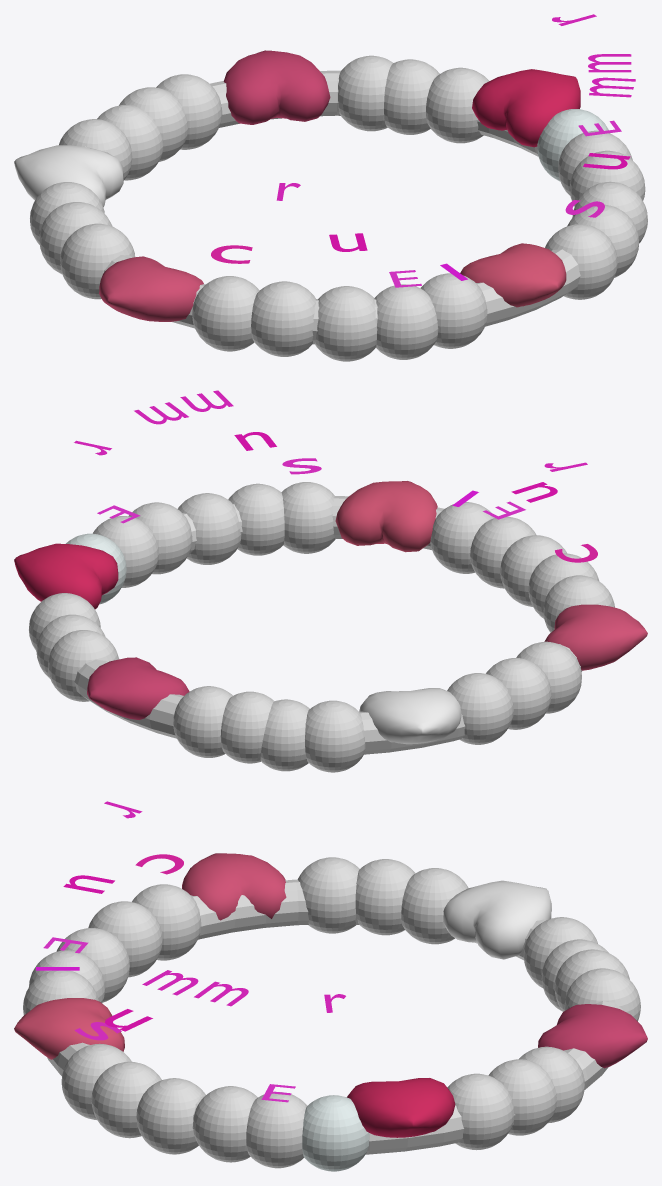
Rendered from CruelSummer.fbx.
3 renders of one model, top to bottom at view 1: azimuth 30°, elevation 25°; view 2: azimuth 150°, elevation 25°; view 3: azimuth 270°, elevation 25°, orthographic. The views are drawn at different scales.
Visible parts, largest first — view 1: Vert.004, Vert, Vert.002, Vert.001, Vert.003, Torus.001, Sphere.037, Sphere.038, Sphere.036, Sphere.039, Sphere.031, Sphere.032 (+15 smaller); view 2: Vert.001, Vert, Vert.003, Vert.002, Vert.004, Torus.001, Sphere.033, Sphere.041, Sphere.030, Sphere.022, Sphere.029, Sphere.018 (+15 smaller); view 3: Torus.001, Vert.003, Vert, Vert.002, Vert.004, Sphere.023, Vert.001, Sphere.022, Sphere.021, Sphere.016, Sphere.032, Sphere.034 (+15 smaller).
Part boxes in pixels (<box>): Vert.004: <box>223,50,330,124</box>; Vert: <box>472,69,580,147</box>; Vert.002: <box>99,256,203,321</box>; Vert.001: <box>460,243,566,307</box>; Vert.003: <box>14,145,123,207</box>; Torus.001: <box>83,70,580,344</box>; Sphere.037: <box>251,281,316,356</box>; Sphere.038: <box>315,286,376,361</box>; Sphere.036: <box>192,276,259,351</box>; Sphere.039: <box>374,284,438,359</box>; Sphere.031: <box>420,273,487,348</box>; Sphere.032: <box>60,223,135,299</box>; Vert.001: <box>335,481,437,552</box>; Vert: <box>14,543,118,609</box>; Vert.003: <box>359,688,461,744</box>; Vert.002: <box>544,604,647,670</box>; Vert.004: <box>87,657,189,719</box>; Torus.001: <box>74,496,582,754</box>; Sphere.033: <box>305,700,365,772</box>; Sphere.041: <box>447,673,513,744</box>; Sphere.030: <box>281,482,335,553</box>; Sphere.022: <box>178,493,240,564</box>; Sphere.029: <box>173,686,232,757</box>; Sphere.018: <box>228,483,284,555</box>; Torus.001: <box>47,879,623,1154</box>; Vert.003: <box>443,880,551,959</box>; Vert: <box>347,1078,455,1137</box>; Vert.002: <box>182,853,286,920</box>; Vert.004: <box>538,1004,647,1068</box>; Sphere.023: <box>302,1095,369,1171</box>; Vert.001: <box>14,998,124,1059</box>; Sphere.022: <box>136,1078,205,1154</box>; Sphere.021: <box>246,1092,307,1168</box>; Sphere.016: <box>447,1073,514,1150</box>; Sphere.032: <box>297,857,359,933</box>; Sphere.034: <box>193,1086,257,1162</box>.
Bounding box in the file's own units: 121 × 34.24 × 116.
